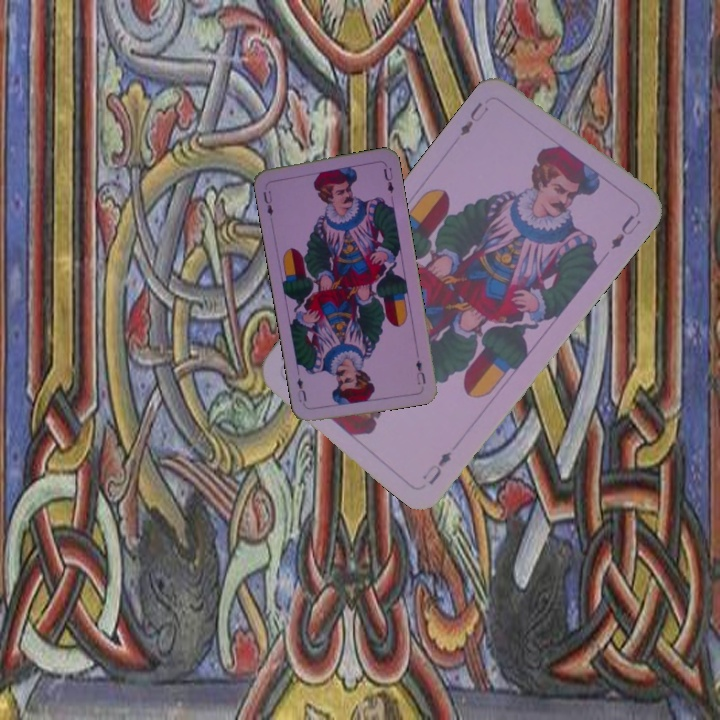EU: (456, 98, 492, 139), (418, 447, 454, 488), (259, 186, 276, 219), (412, 356, 428, 388)
